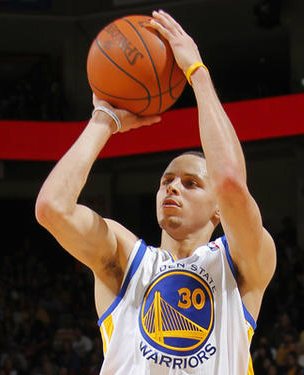Basketball: (87, 15, 186, 116)
